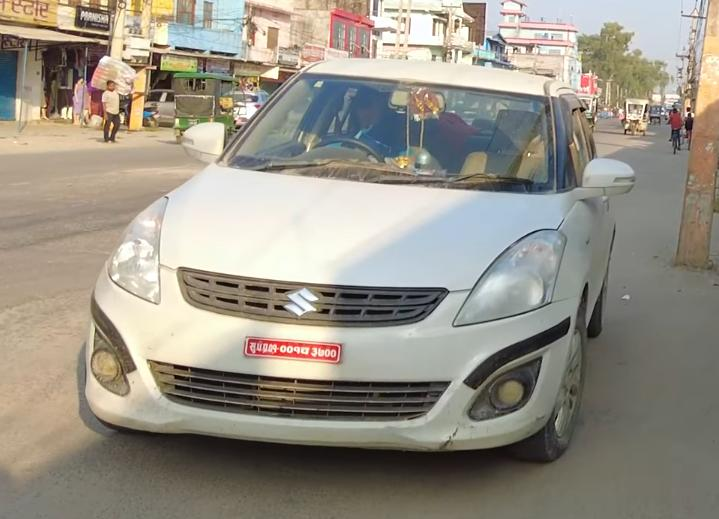car: (79, 50, 640, 470)
e-rickshaw: (620, 94, 651, 139)
